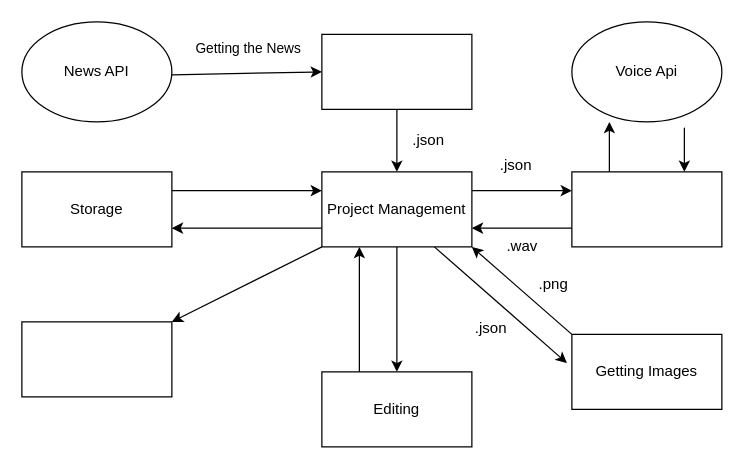
This 744x469 diagram has some shape labels left out. Each missing label, with the centre of its shape:
"Process: Getting Voice" belongs at [646,209].
"Process: Relevance" belongs at [396,71].
"Review" belongs at [96,359].
